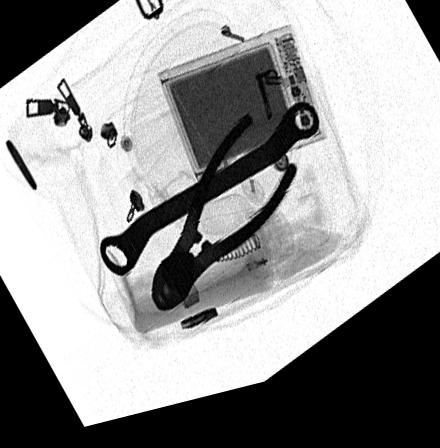Pliers: (149, 123, 299, 319)
Powerbank: (156, 38, 324, 190)
Wrench: (97, 117, 318, 283)
